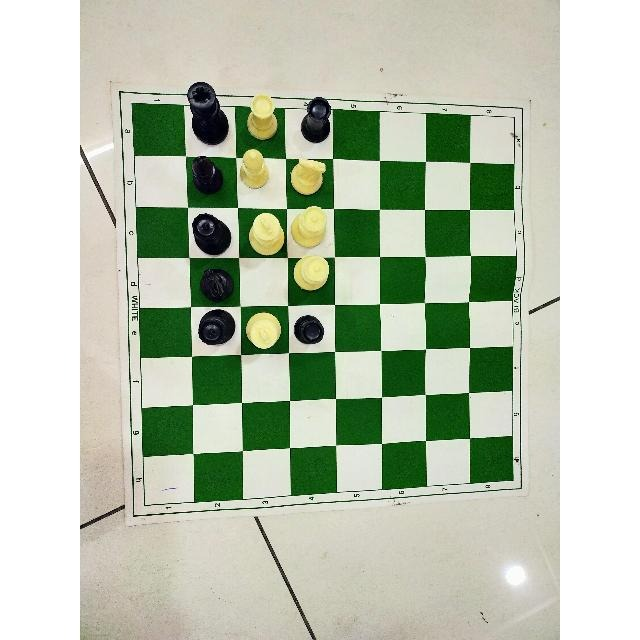black-bishop: (186, 151, 224, 194)
black-king: (184, 75, 228, 147)
black-knight: (196, 266, 236, 304)
black-queen: (191, 209, 235, 254), (198, 307, 236, 347)
black-rook: (297, 92, 337, 144)
white-bishop: (235, 147, 272, 189)
white-king: (246, 306, 286, 352), (247, 211, 286, 257)
white-knight: (288, 154, 327, 193)
white-queen: (289, 201, 328, 247), (290, 250, 330, 292)
white-rook: (241, 94, 280, 144)
